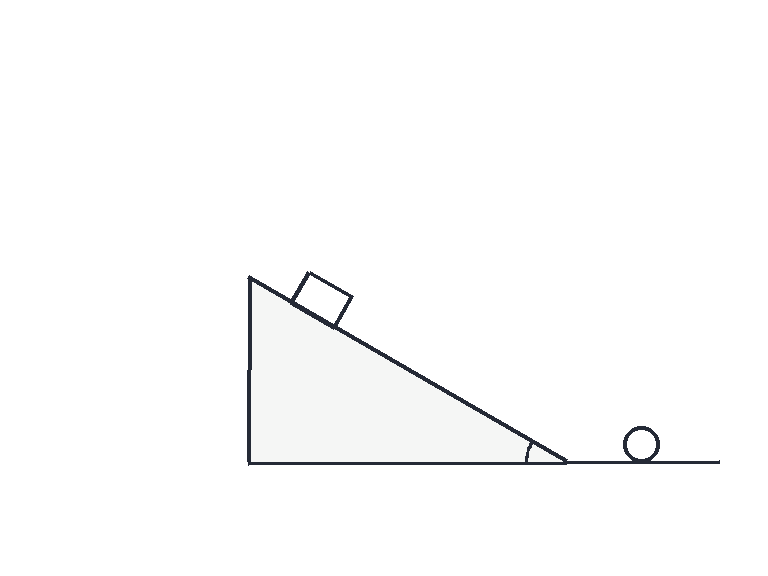ball: (621, 424, 661, 464)
block: (289, 270, 353, 329)
ramp: (246, 276, 568, 464)
